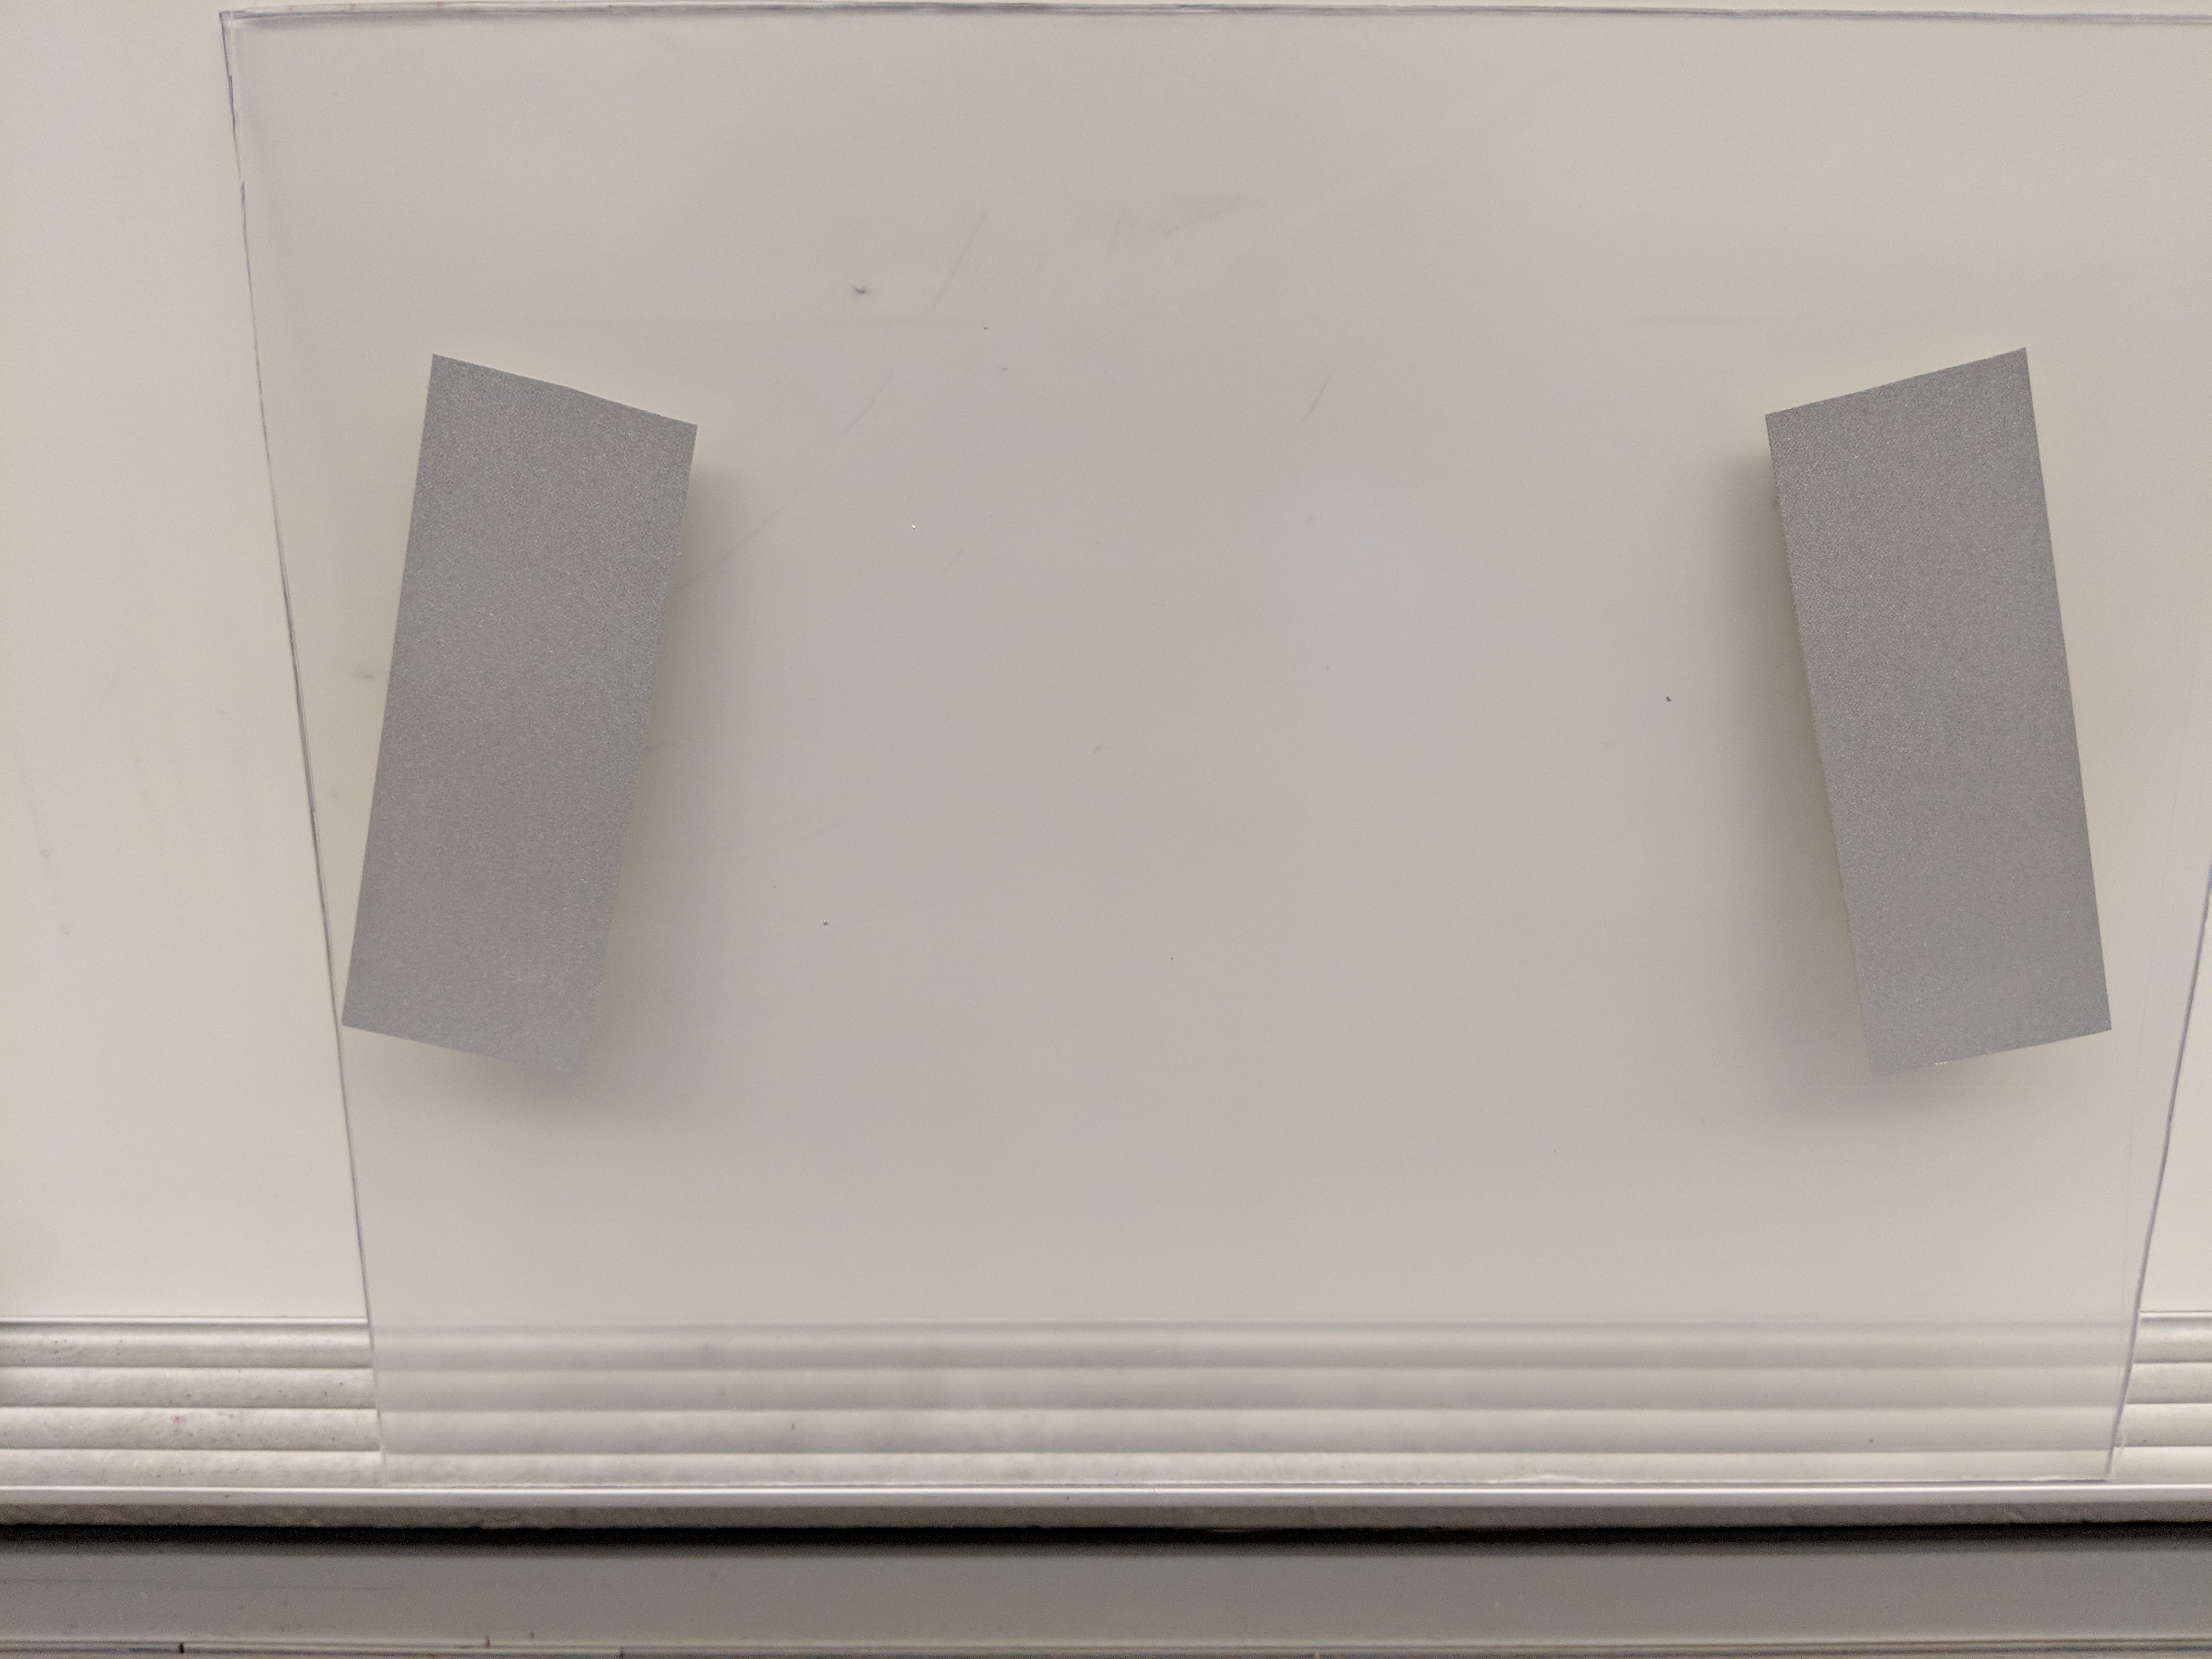vision_target: (326, 331, 2146, 1094)
